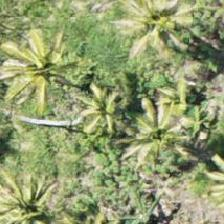coconut_tree: (63, 61, 153, 151), (120, 92, 210, 182), (0, 21, 83, 111), (108, 0, 198, 63), (0, 155, 68, 223)
